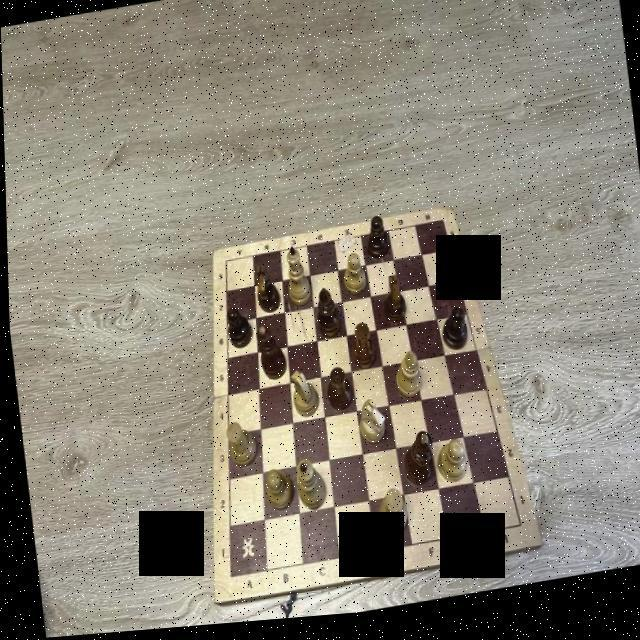chess-table-corners: (509, 524, 524, 542), (220, 572, 233, 588), (436, 220, 446, 233), (220, 258, 229, 270)
